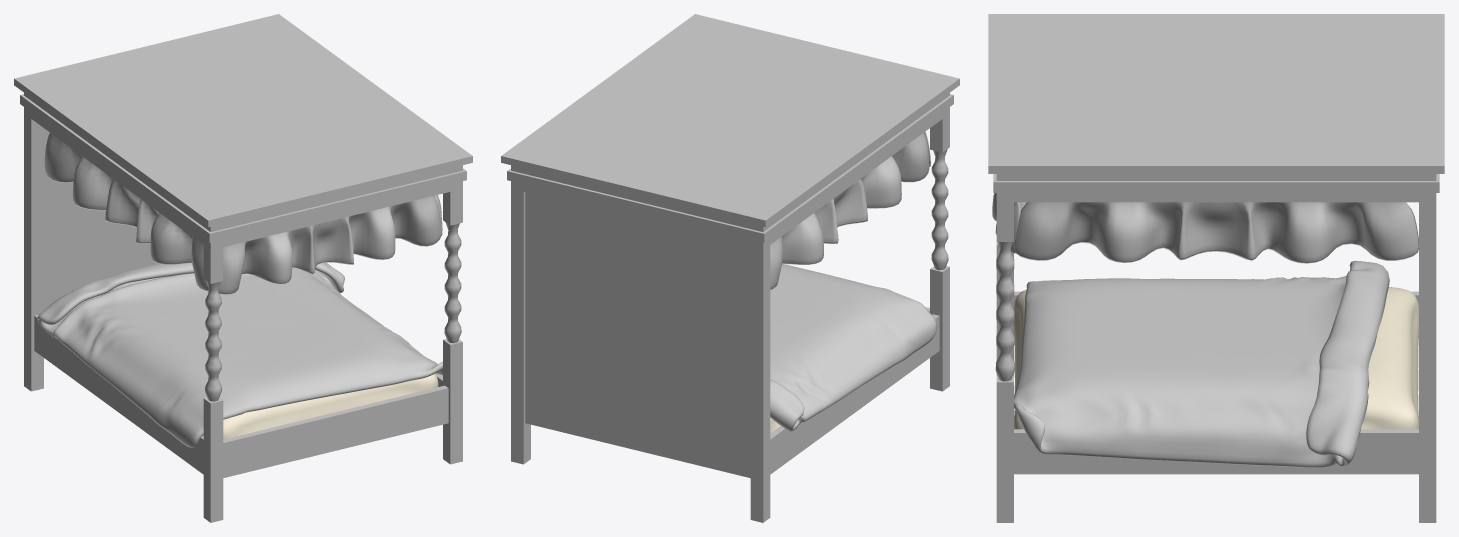
The model's file is Bed29.fbx.
3 views of the same model, side by side, from view 1: azimuth 30°, elevation 25°; view 2: azimuth 150°, elevation 25°; view 3: azimuth 270°, elevation 25° (orthographic). The views are drawn at different scales.
Visible parts, largest first — view 1: BedFrame29, Blanket29, Curtain29, Mattress29; view 2: BedFrame29, Blanket29, Curtain29; view 3: BedFrame29, Blanket29, Curtain29, Mattress29.
Part boxes in pixels (x1,y1,x2,y2): BedFrame29: (14,14,472,522); Blanket29: (37,262,442,447); Curtain29: (44,133,442,294); Mattress29: (223,374,438,439); BedFrame29: (501,14,959,522); Blanket29: (770,264,936,431); Curtain29: (770,131,930,289); BedFrame29: (988,14,1444,522); Blanket29: (1014,260,1389,467); Curtain29: (992,193,1418,263); Mattress29: (1013,287,1418,429).
Bounding box in the file's own units: 231 × 233 × 267.
